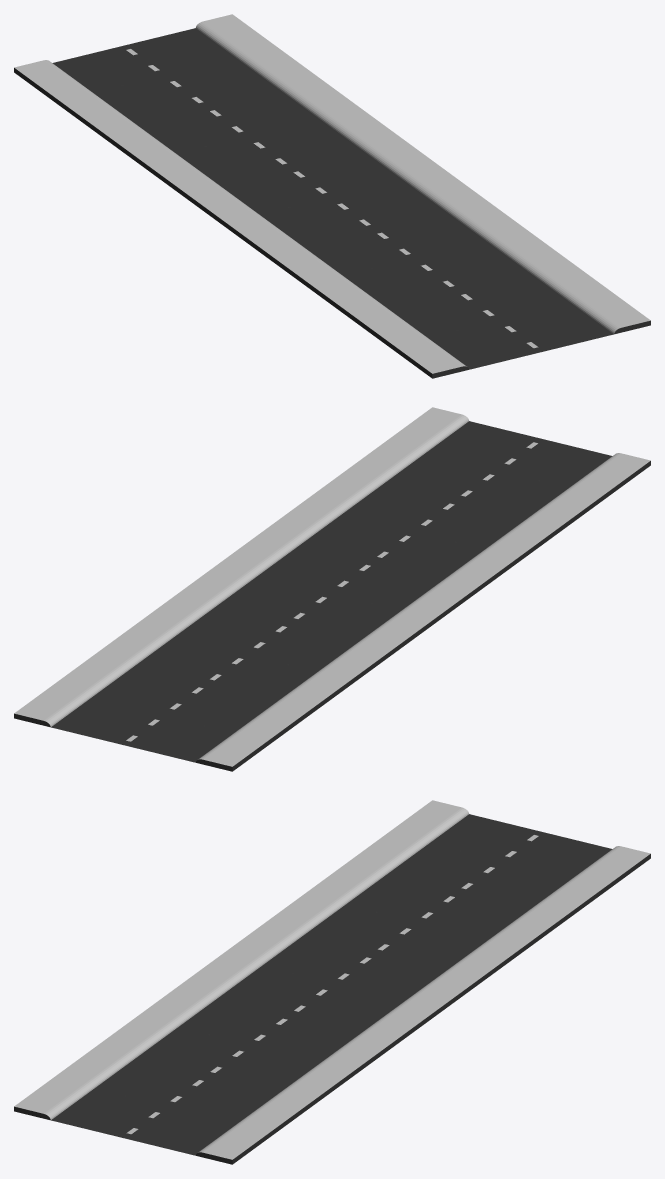
The model's file is RoadMedium.obj.
3 renders of one model, top to bottom at view 1: azimuth 30°, elevation 25°; view 2: azimuth 150°, elevation 25°; view 3: azimuth 330°, elevation 25°, orthographic.
Parts seen in each view (by area): view 1: Plane.019_Plane.021_Material.004, Plane.019_Plane.021_Material.003; view 2: Plane.019_Plane.021_Material.004, Plane.019_Plane.021_Material.003; view 3: Plane.019_Plane.021_Material.004, Plane.019_Plane.021_Material.003.
Boxes of the visible parts, x1,y1,x2,y2 form: Plane.019_Plane.021_Material.004: [14, 28, 650, 378]; Plane.019_Plane.021_Material.003: [14, 14, 650, 373]; Plane.019_Plane.021_Material.004: [14, 421, 650, 771]; Plane.019_Plane.021_Material.003: [14, 407, 650, 766]; Plane.019_Plane.021_Material.004: [14, 814, 650, 1164]; Plane.019_Plane.021_Material.003: [14, 800, 650, 1159].
Size of the model in its own units: 3.01 by 0.0645 by 10.
Materials: 2 (2 with a texture image).
